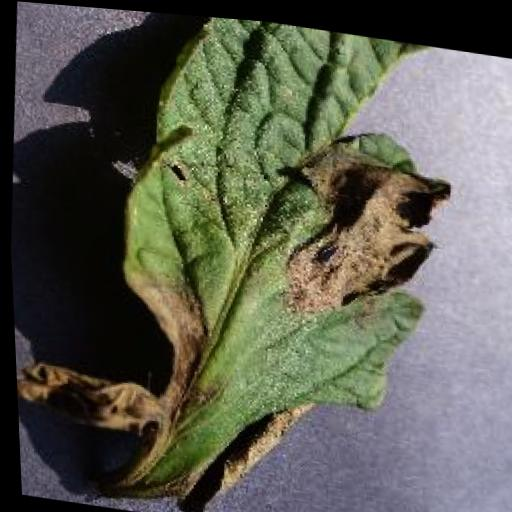Late Blight: (0, 0, 474, 512)
